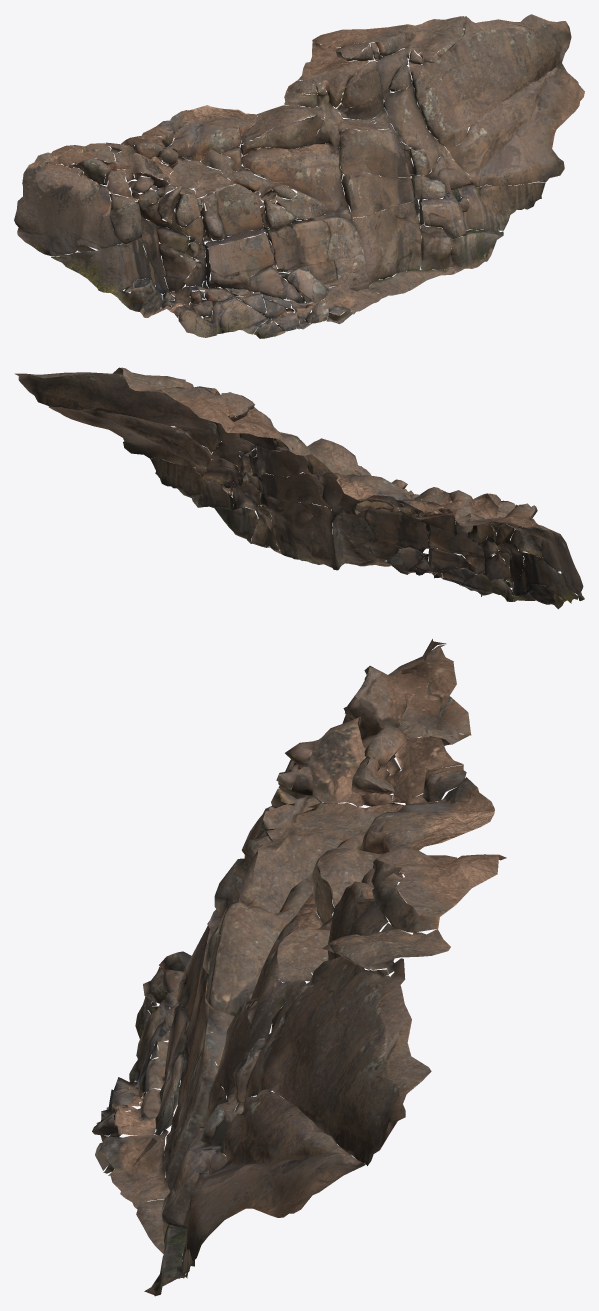
File: namaqualand_cliff_02.glb
3 renders of one model, top to bottom at view 1: azimuth 30°, elevation 25°; view 2: azimuth 150°, elevation 25°; view 3: azimuth 270°, elevation 25°, orthographic. The views are drawn at different scales.
Visible parts, largest first — view 1: namaqualand_cliff_02_6000; view 2: namaqualand_cliff_02_6000; view 3: namaqualand_cliff_02_6000.
Part boxes in pixels (left/top/right/bottom): namaqualand_cliff_02_6000: left=14, top=14, right=584, bottom=338; namaqualand_cliff_02_6000: left=14, top=367, right=584, bottom=609; namaqualand_cliff_02_6000: left=92, top=639, right=506, bottom=1296.
Size of the model in its own units: 20.18 by 7.19 by 6.61.
1 material, 1 textured.
